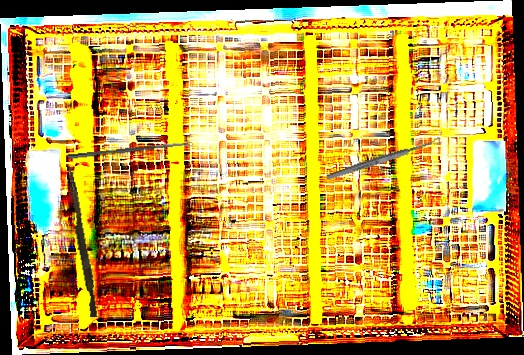Pusher: (61, 165, 102, 318)
Surgical Spoon: (325, 136, 443, 182), (67, 141, 193, 160)
